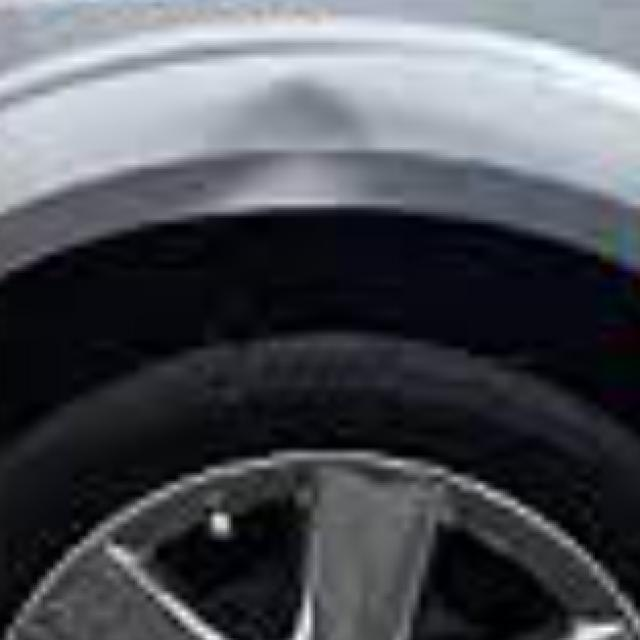dents: (221, 82, 423, 208)
